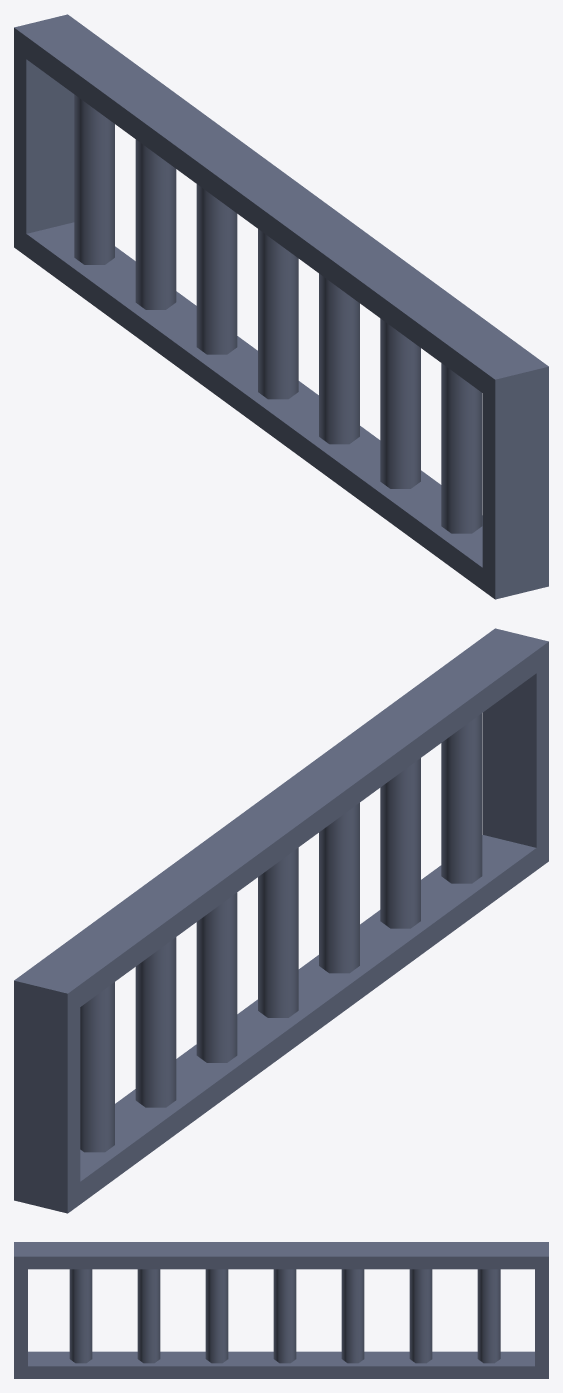
File: Wall2.glb
3 views of the same model, one above another, from view 1: azimuth 30°, elevation 25°; view 2: azimuth 150°, elevation 25°; view 3: azimuth 270°, elevation 25° (orthographic). The views are drawn at different scales.
Parts seen in each view (by area): view 1: fence_section; view 2: fence_section; view 3: fence_section.
Boxes of the visible parts, <box> form: fence_section: <box>14,14,548,599</box>; fence_section: <box>14,628,548,1213</box>; fence_section: <box>14,1242,548,1378</box>.
Bounding box in the file's own units: 0.5123 × 2 × 7.93.
